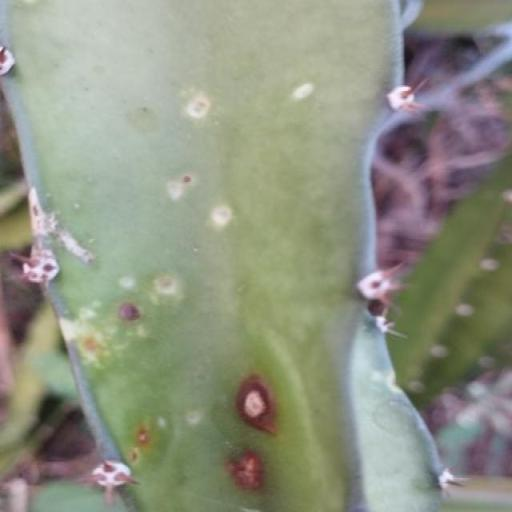stemcanker: (242, 418, 294, 479), (294, 44, 330, 82), (274, 164, 306, 197), (331, 224, 363, 256), (374, 247, 404, 276), (191, 52, 216, 82), (416, 272, 440, 302), (378, 217, 404, 240), (367, 375, 383, 403), (316, 124, 334, 148), (379, 402, 392, 422)
